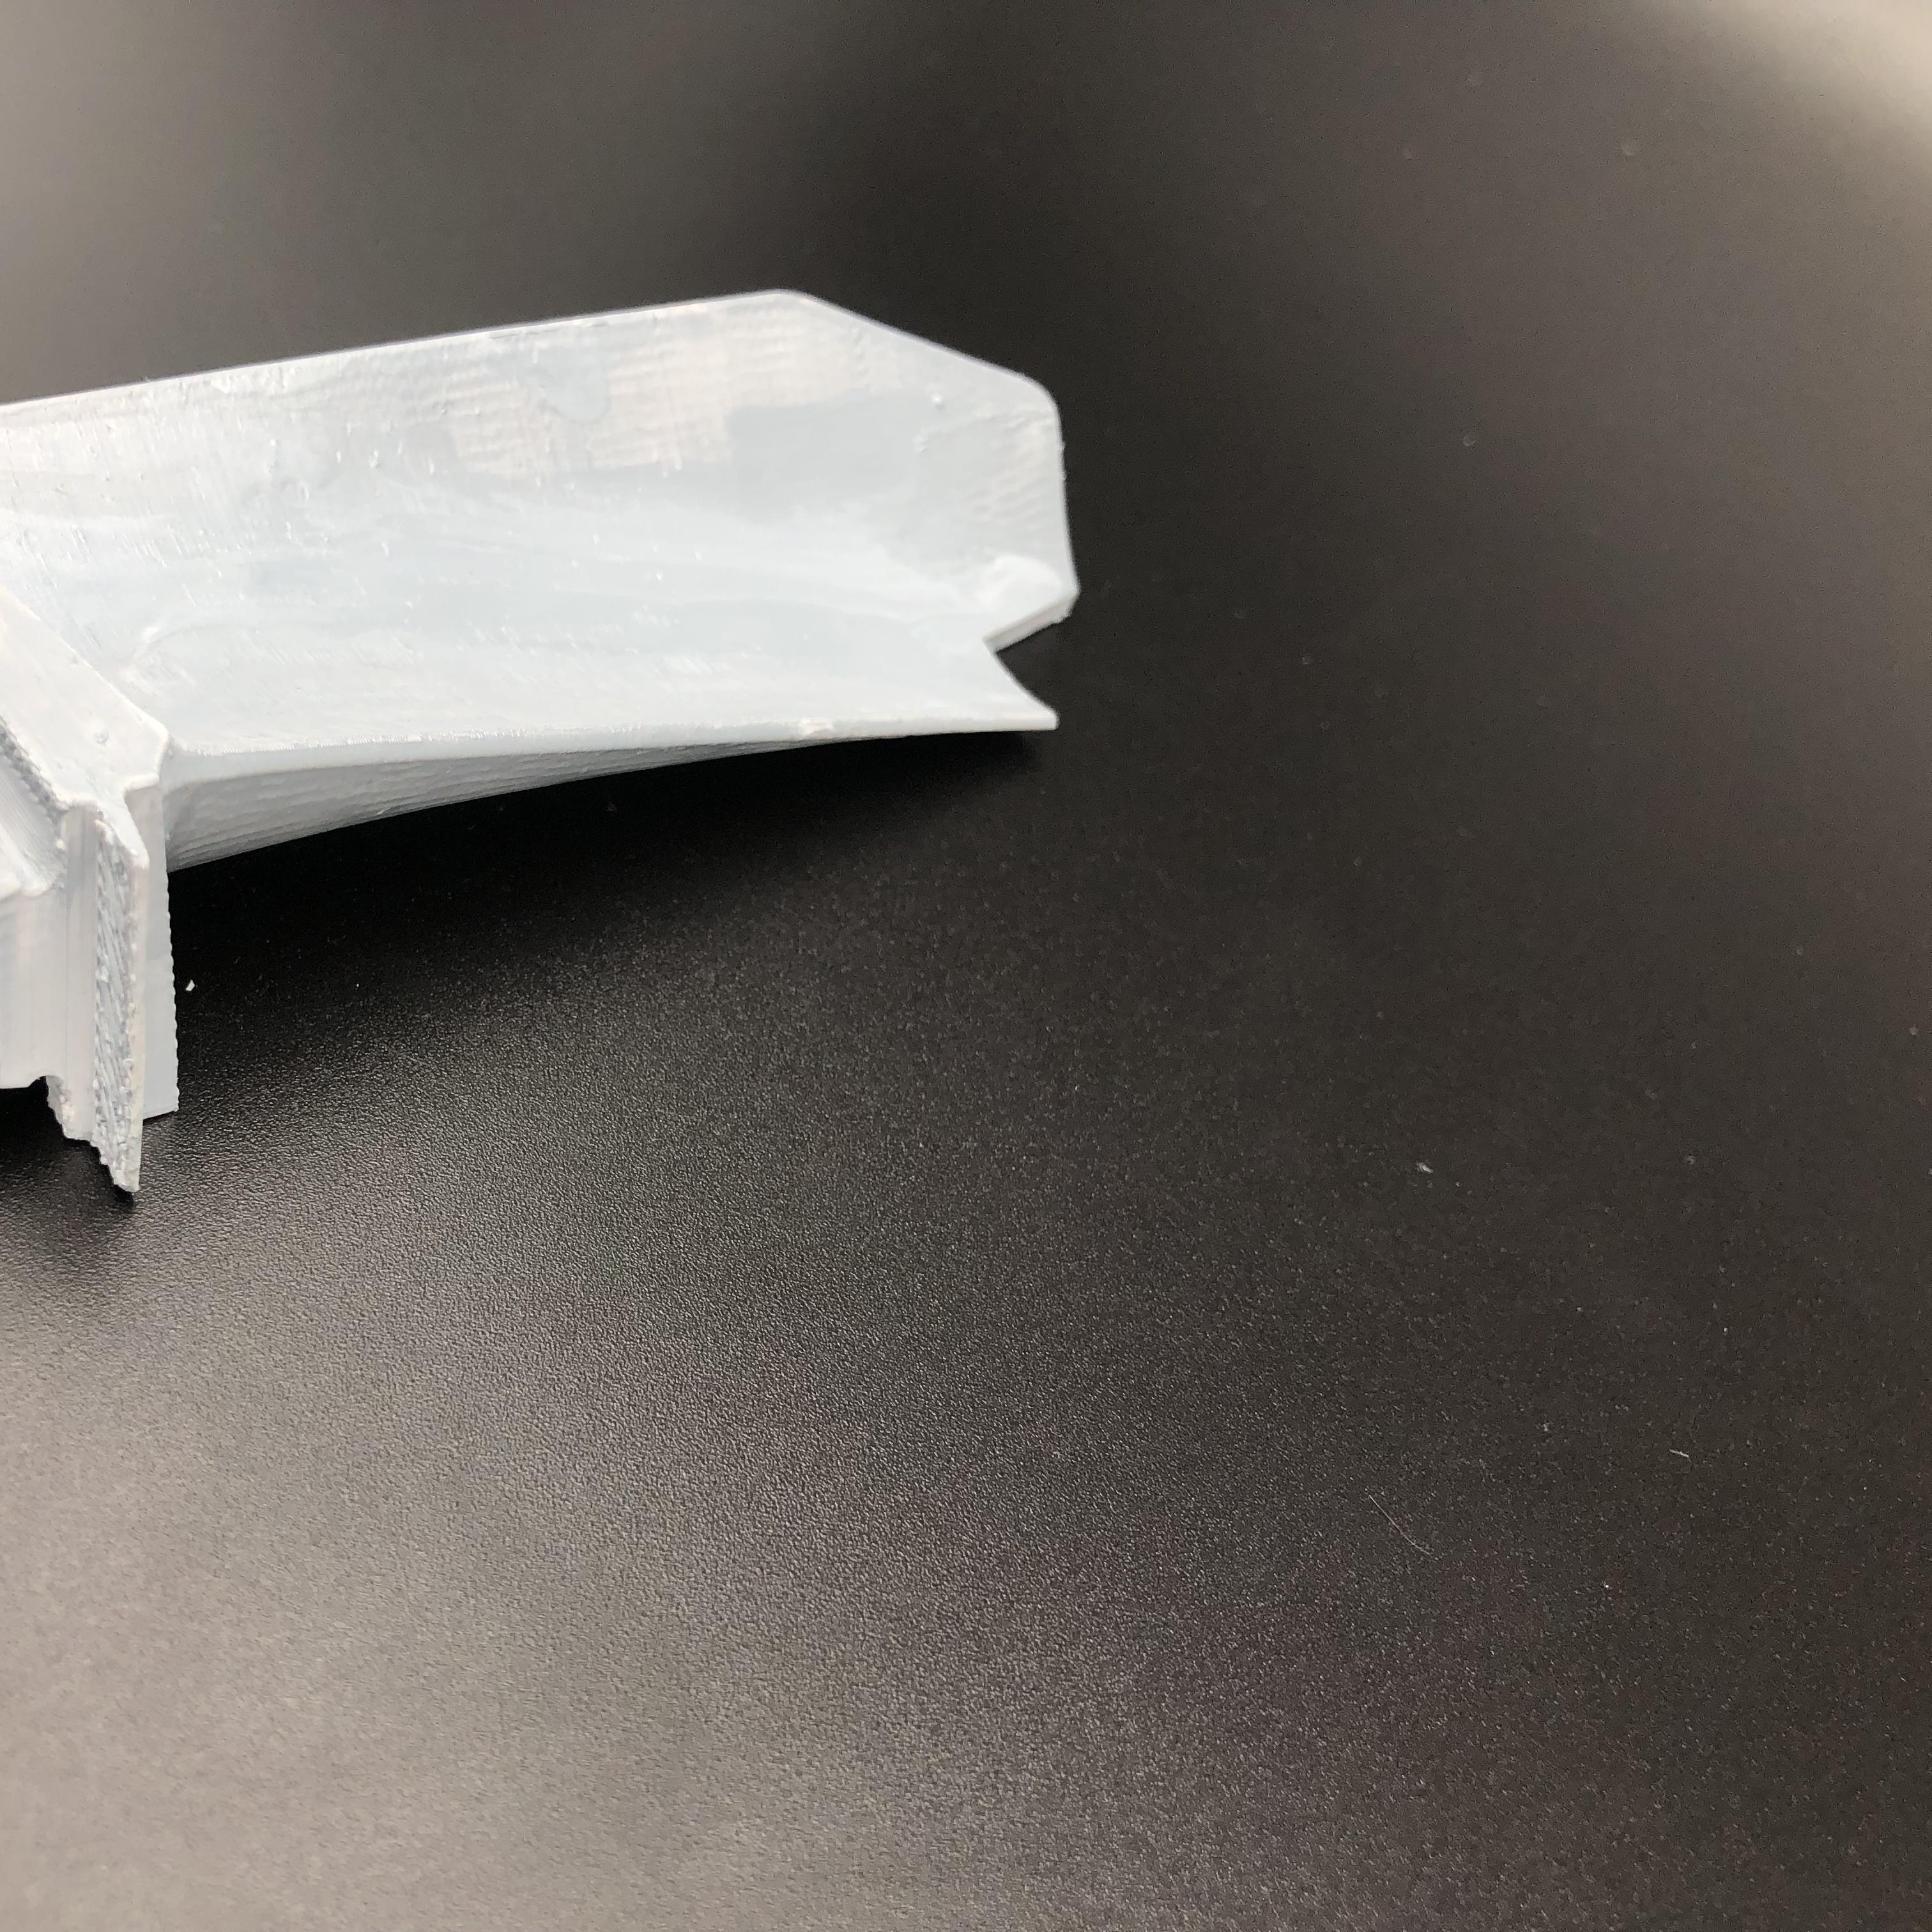fracture: (959, 575, 1083, 715)
